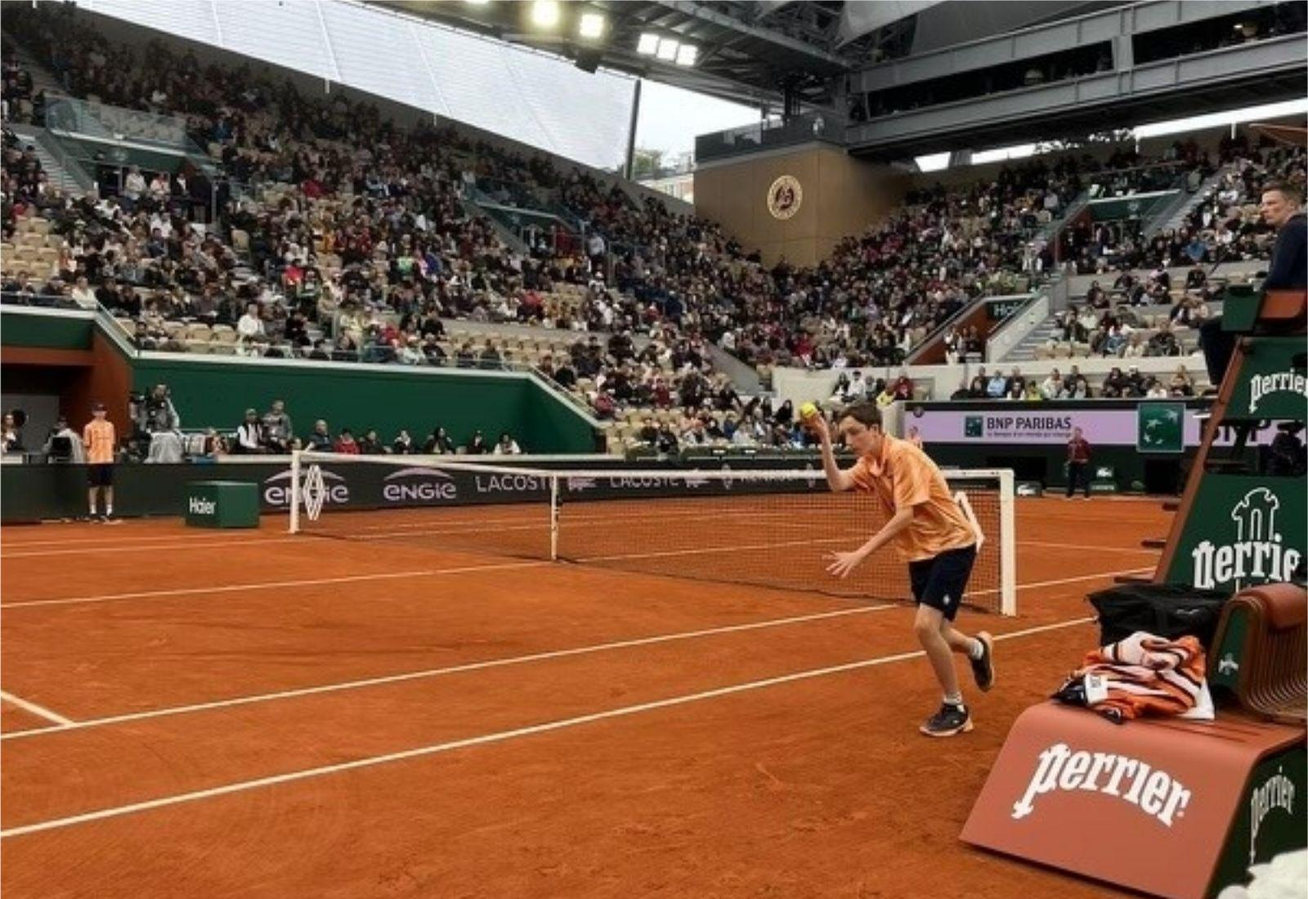ball_tennis: (801, 400, 815, 418)
